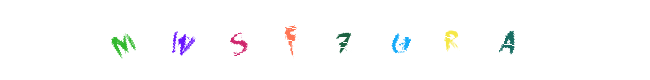7: (285, 0, 365, 80)
A: (403, 0, 483, 80)
F: (233, 0, 313, 80)
M: (110, 0, 190, 80)
R: (396, 0, 476, 80)
S: (225, 0, 305, 80)
U: (360, 0, 440, 80)
W: (142, 0, 222, 80)
